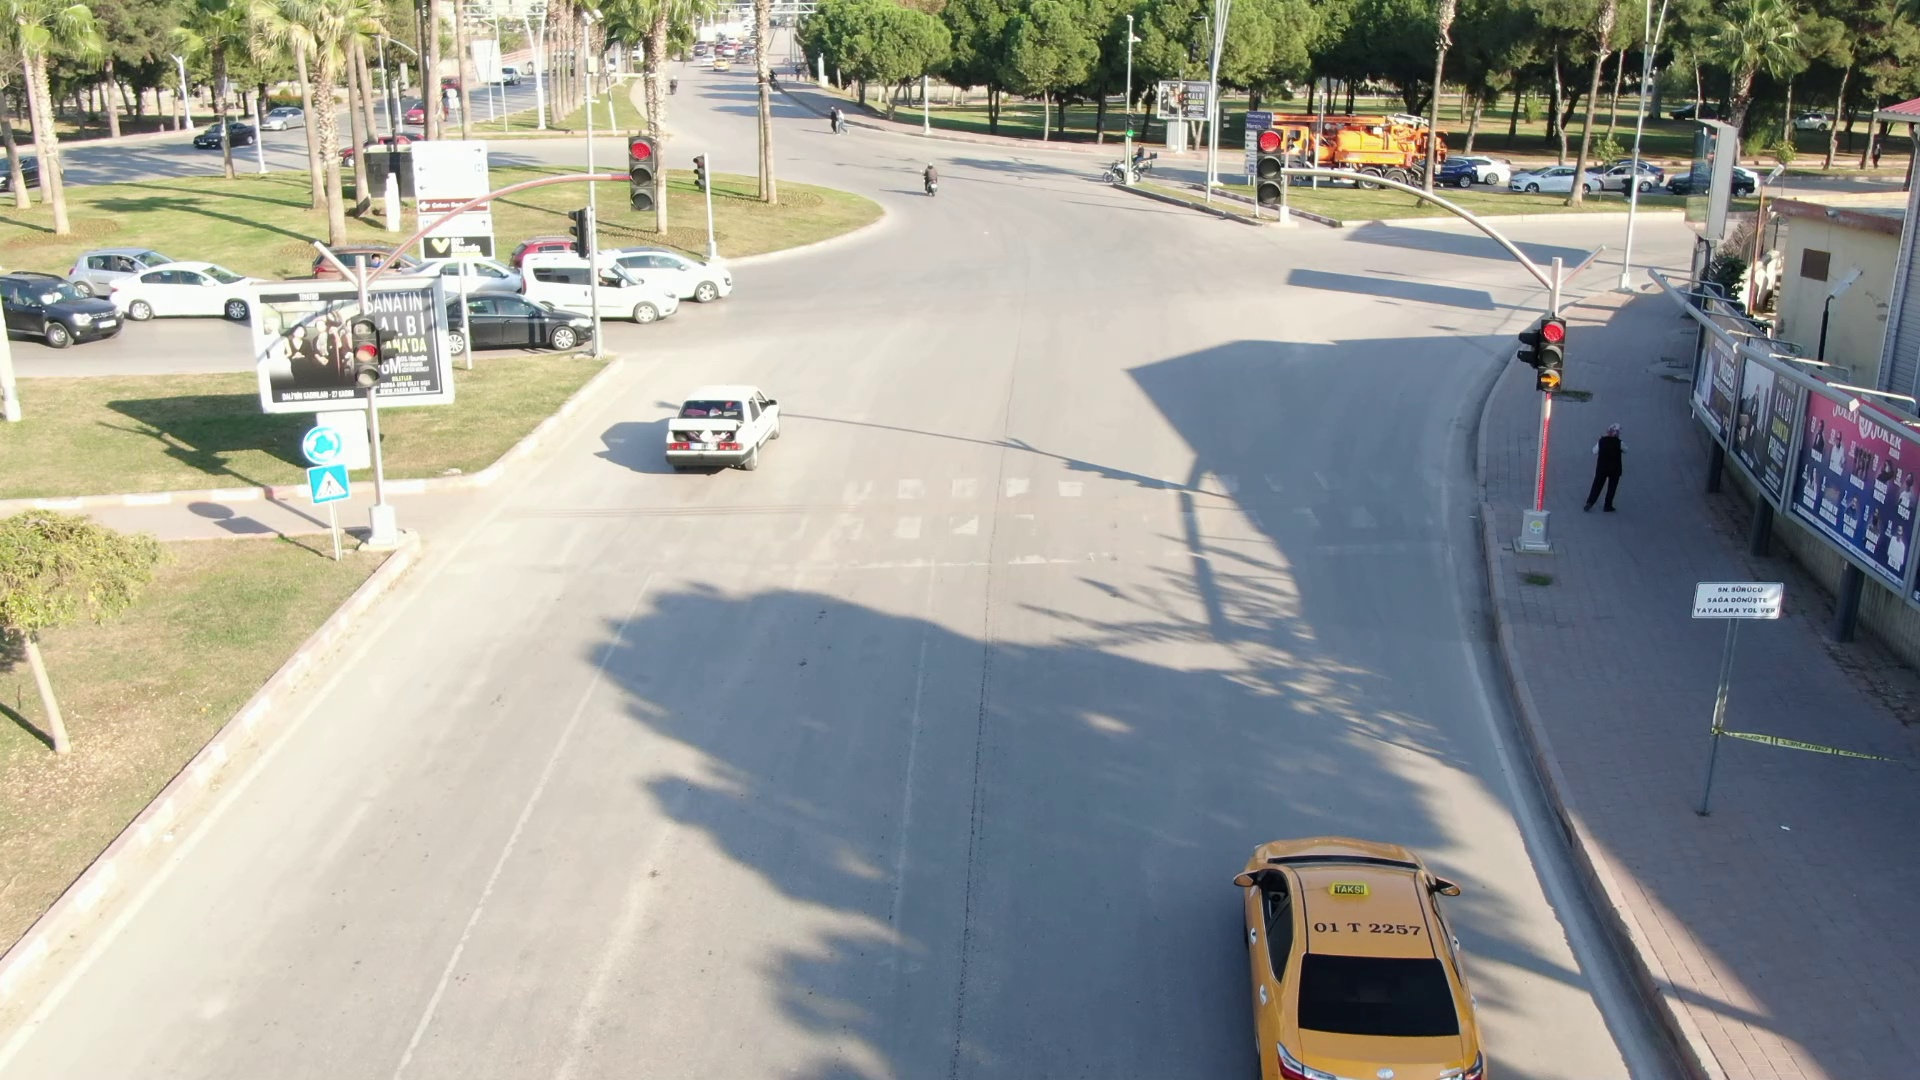car: (1161, 821, 1515, 1080), (1, 246, 137, 357), (631, 386, 790, 480), (114, 229, 266, 321), (521, 245, 686, 327), (443, 284, 615, 355), (584, 233, 739, 306)
person: (1572, 417, 1633, 527), (912, 155, 949, 202)
